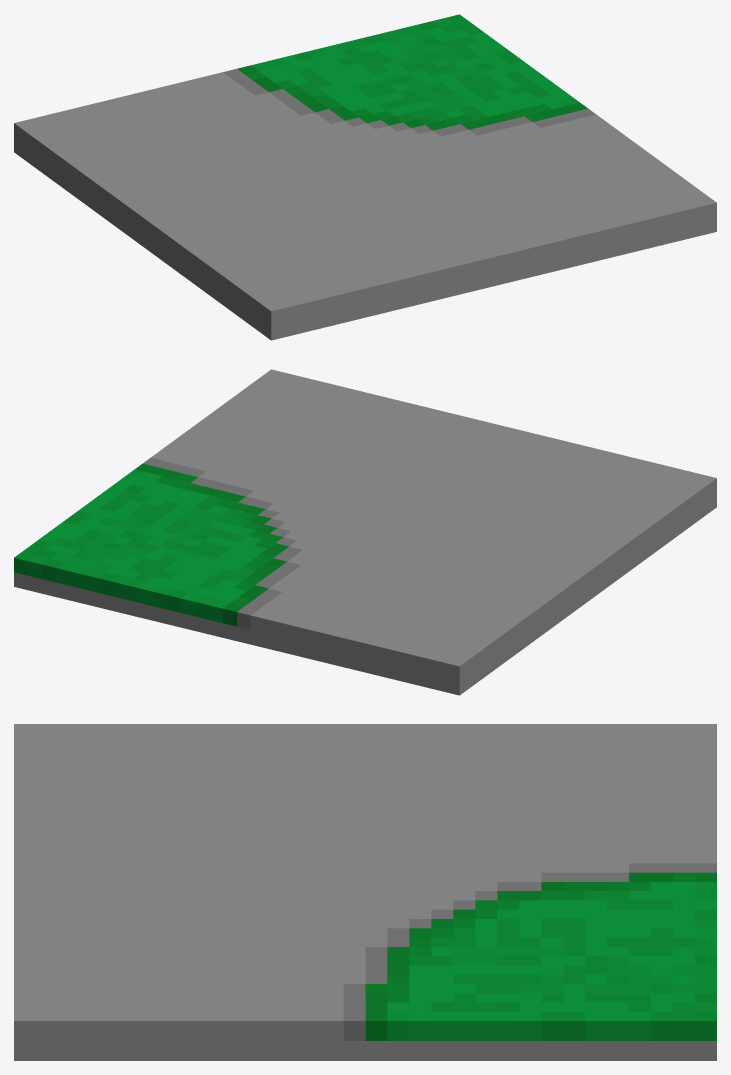
Rendered from forest-city-rounded-edge-outer-1.gltf.
The picture shows the model from 3 angles, top to bottom: view 1: azimuth 30°, elevation 25°; view 2: azimuth 150°, elevation 25°; view 3: azimuth 270°, elevation 25°; orthographic projection. The views are drawn at different scales.
Visible parts, largest first — view 1: forest-city-rounded-edge-outer-1; view 2: forest-city-rounded-edge-outer-1; view 3: forest-city-rounded-edge-outer-1.
Boxes of the visible parts, box(x1,y1,x2,y2) form: forest-city-rounded-edge-outer-1: box(14, 14, 716, 340); forest-city-rounded-edge-outer-1: box(14, 369, 716, 695); forest-city-rounded-edge-outer-1: box(14, 724, 716, 1060).
Size of the model in its own units: 3.2 by 0.2 by 3.2.
Materials: 1 (1 with a texture image).
